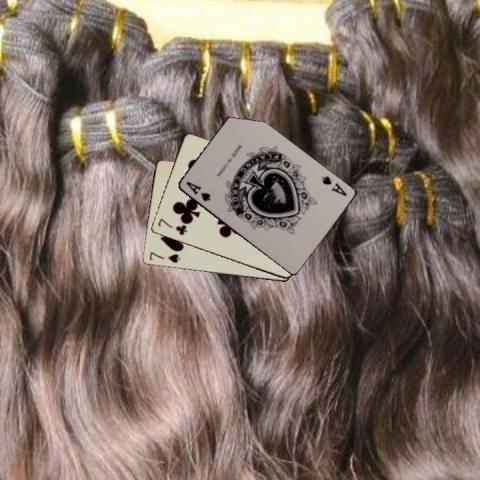7c: (155, 216, 188, 237)
7s: (146, 249, 181, 265)
As: (319, 173, 348, 198), (183, 179, 211, 203)
